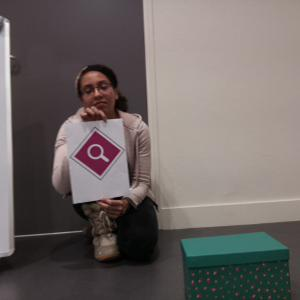big: (1, 14, 14, 261)
small: (180, 231, 292, 300)
